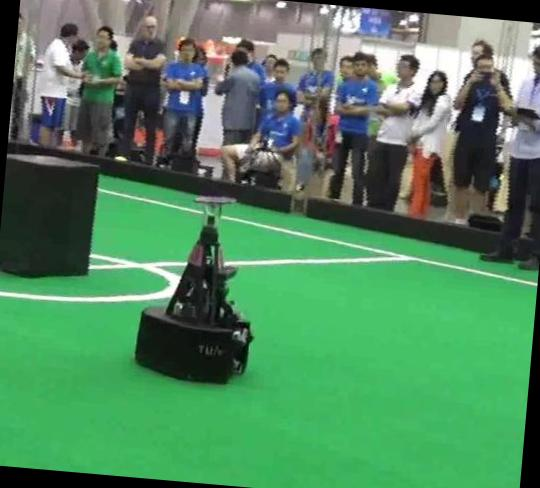person: (481, 46, 540, 267)
robot: (135, 195, 252, 382)
